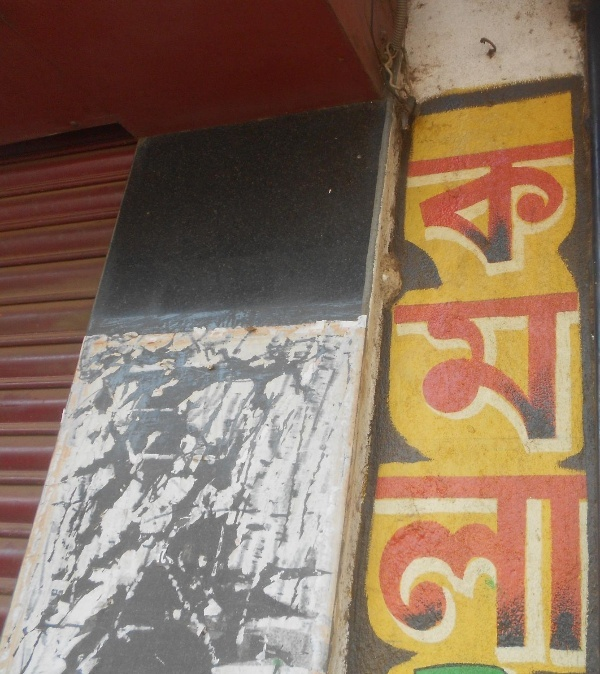text: (401, 126, 416, 669), (417, 126, 432, 669), (433, 126, 448, 669), (449, 126, 464, 669), (465, 126, 480, 669), (481, 126, 496, 669), (497, 126, 512, 669), (513, 126, 528, 669), (529, 126, 544, 669), (545, 126, 560, 669), (561, 126, 576, 669), (577, 126, 590, 669), (399, 126, 400, 669)
